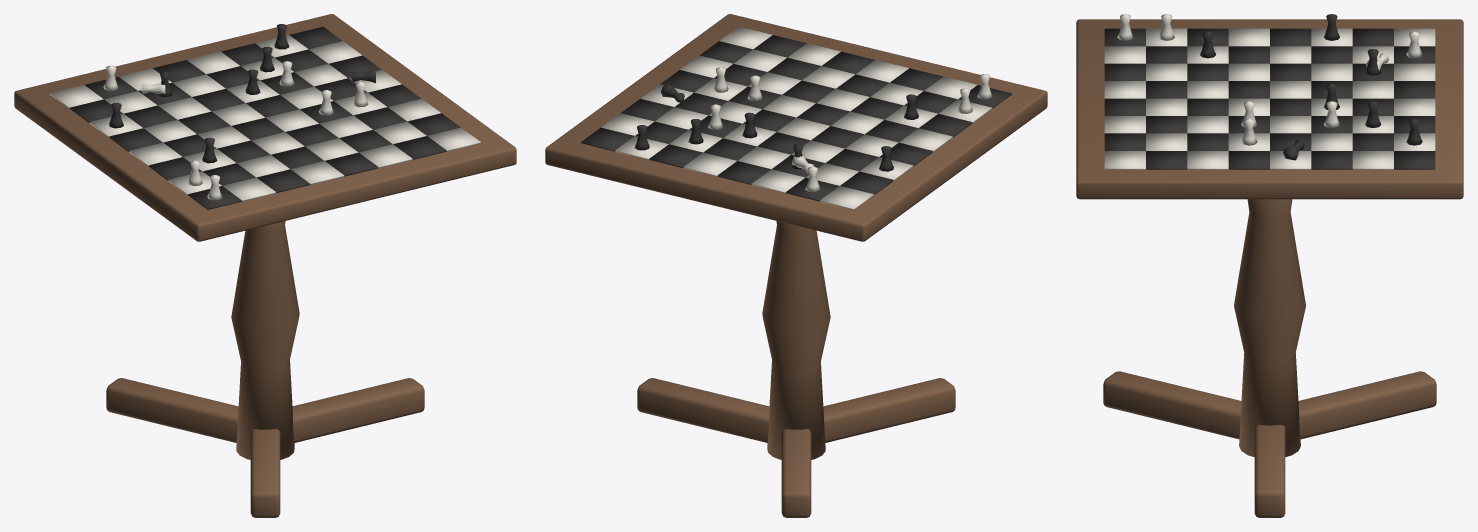
File: chess_table.glb
3 views of the same model, side by side, from view 1: azimuth 30°, elevation 25°; view 2: azimuth 150°, elevation 25°; view 3: azimuth 270°, elevation 25° (orthographic). The views are drawn at different scales.
Parts seen in each view (by area): view 1: chess_table; view 2: chess_table; view 3: chess_table.
Part boxes in pixels (x1,y1,x2,y2): chess_table: (14,14,516,517); chess_table: (545,14,1047,517); chess_table: (1076,14,1463,517).
Size of the model in its own units: 0.75 by 0.793 by 0.75.
